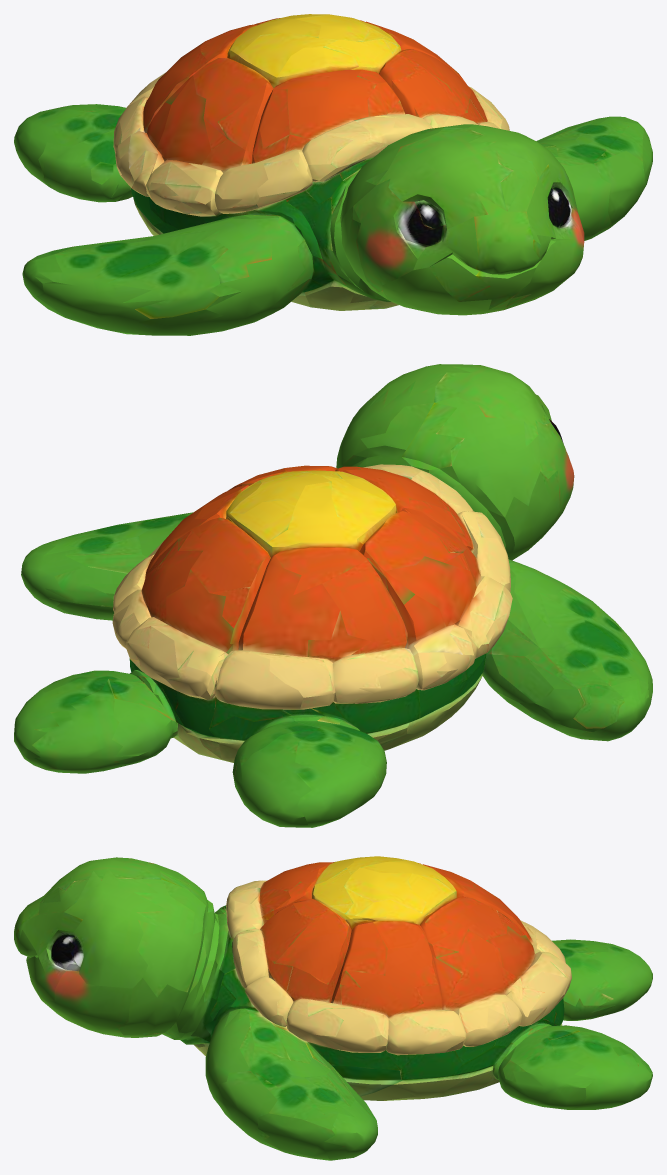
The model's file is hav-skildpadde.glb.
The picture shows the model from 3 angles, top to bottom: view 1: azimuth 30°, elevation 25°; view 2: azimuth 150°, elevation 25°; view 3: azimuth 270°, elevation 25°; orthographic projection. The views are drawn at different scales.
Bounding box in the file's own units: 1.83 × 0.5791 × 1.9.
Materials: 1 (1 with a texture image).
